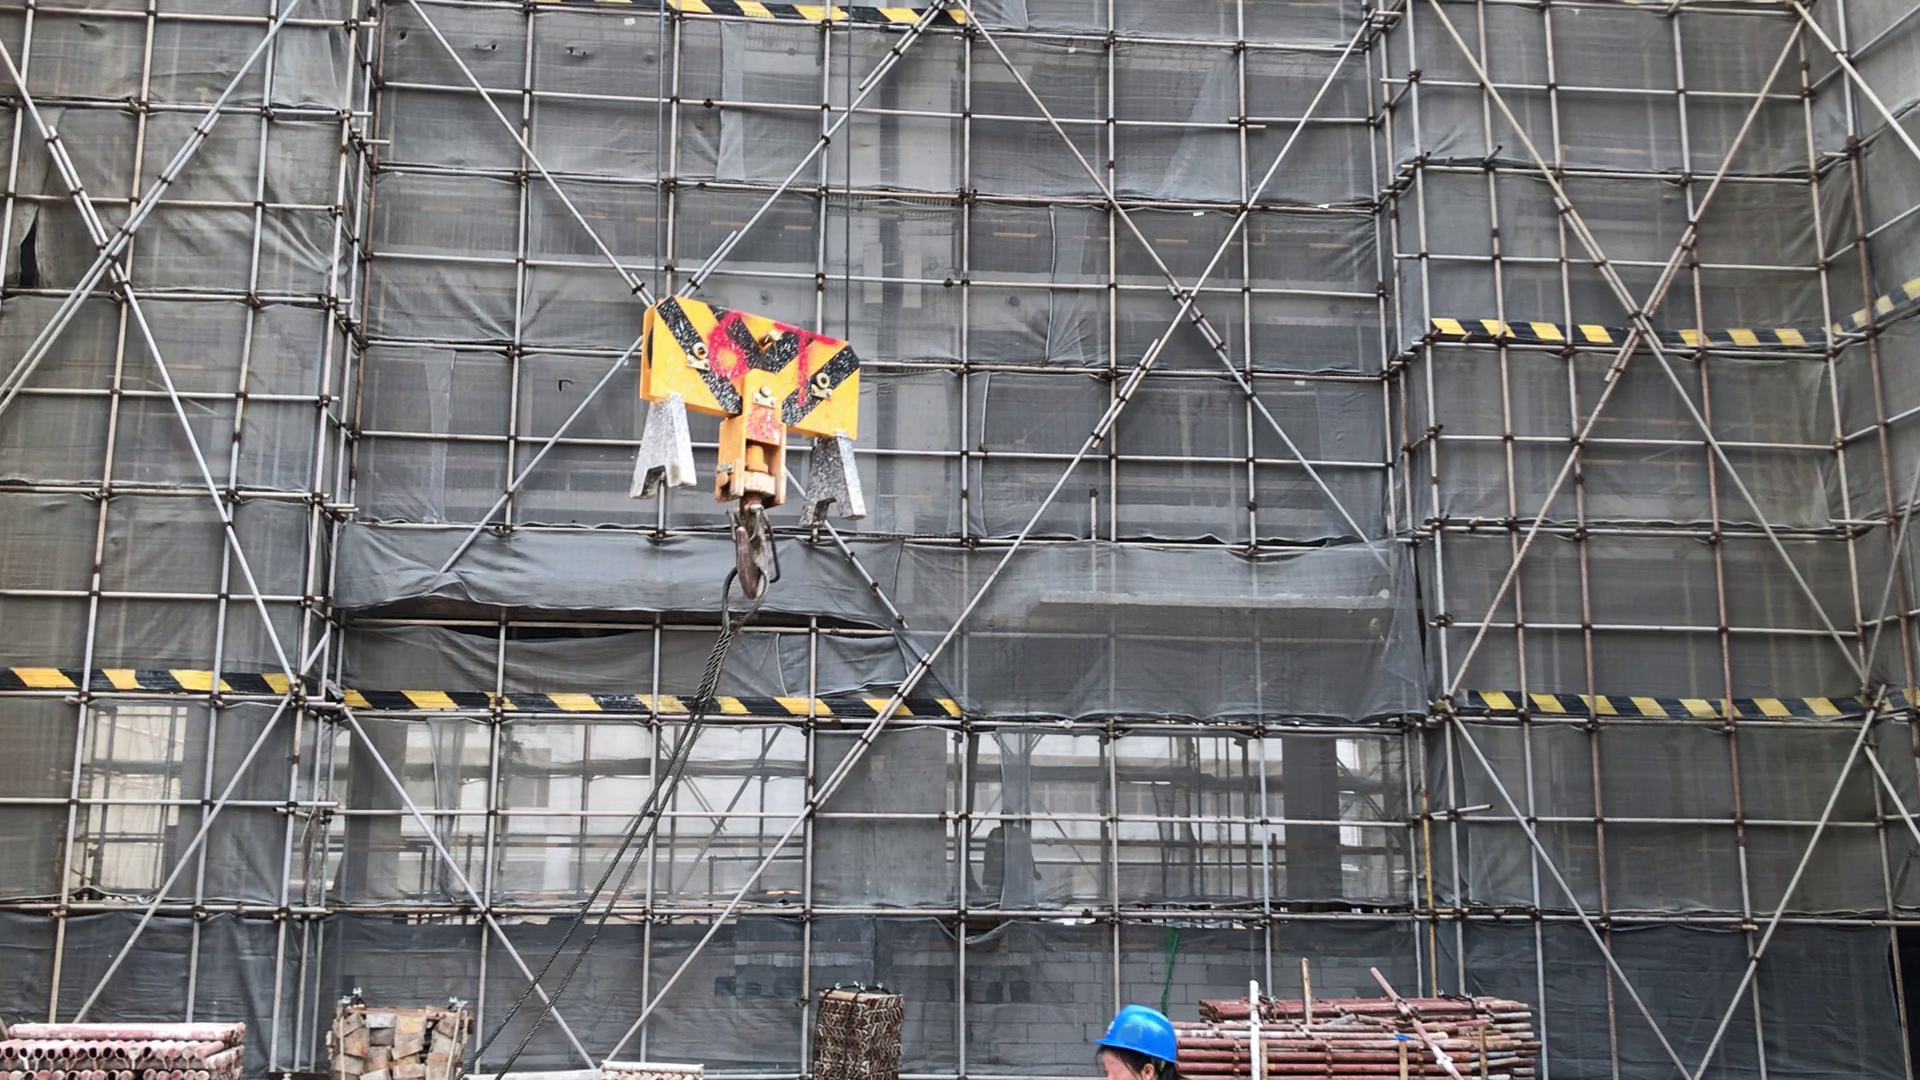helmet: (1096, 992, 1201, 1068)
hook: (599, 246, 941, 676)
person: (1086, 996, 1200, 1080)
scaffold: (1175, 976, 1538, 1080), (1, 984, 266, 1080)
wood: (292, 978, 519, 1080)
